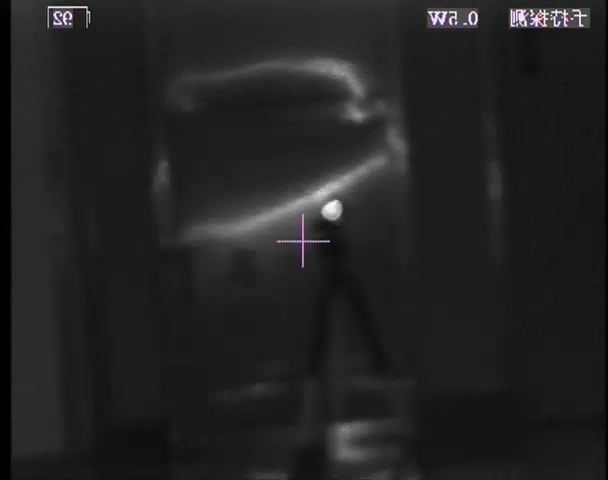my: (319, 196, 344, 222)
